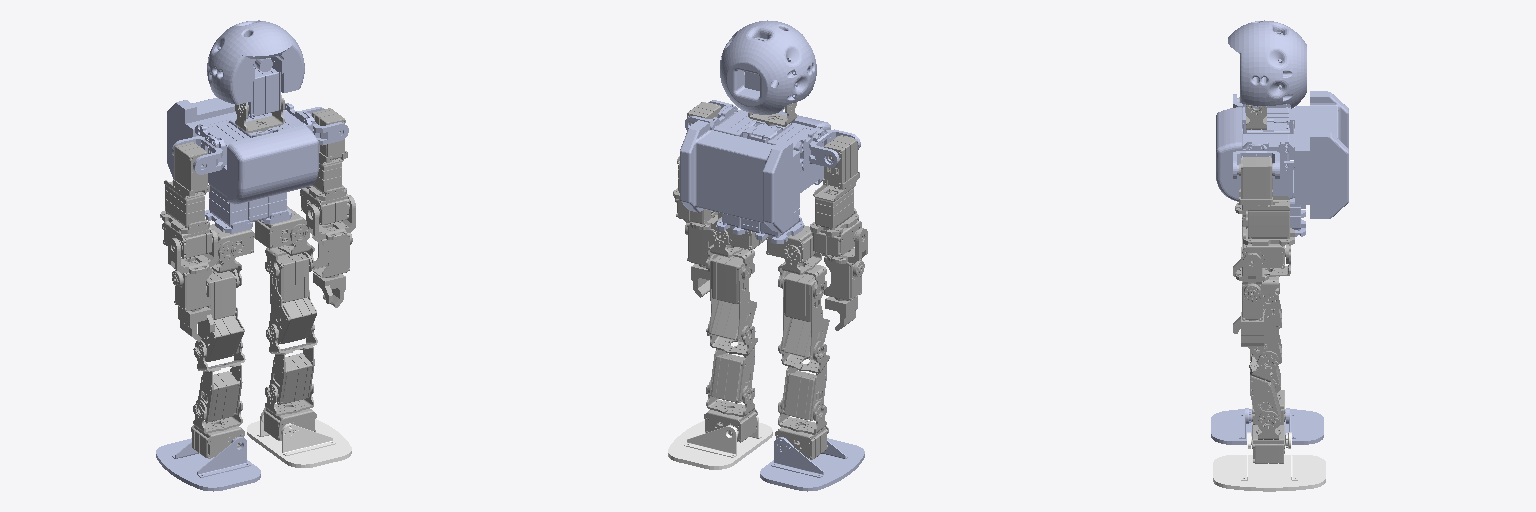
--- Render facts (derived) ---
The picture shows the robot from 3 angles, left to right: view 1: azimuth 30°, elevation 25°; view 2: azimuth 150°, elevation 25°; view 3: azimuth 270°, elevation 25°; orthographic projection.
Model Robokit-MV with 30 links and 29 joints (23 continuous, 6 fixed), rooted at trunk_1, posed all joints at 0.
Visible links, largest first — view 1: trunk_1, Head, Foot_Left, Hip_Left, Foot_Right, Arm_Right, Hand_Right, Hand_Left, Hip_Right, Shin_Left, Shin_Right, Waist (+13 smaller); view 2: Backpack, Head, Foot_Left, Arm_Right, trunk_1, Foot_Right, Hip_Left, Hip_Right, Shin_Left, Shin_Right, Hand_Right, Leg_Joint_Right03 (+10 smaller); view 3: Backpack, Head, trunk_1, Foot_Right, Arm_Left, Foot_Left, Hand_Left, Shin_Left, Leg_Joint_Left03, Hip_Left, Leg_Joint_Left02, Elbow_Left (+1 smaller).
Boxes of the visible links, box(x1,y1,x2,y2) form: trunk_1: box(195, 103, 318, 204); Head: box(207, 20, 304, 116); Foot_Left: box(156, 437, 260, 491); Hip_Left: box(269, 253, 316, 344); Foot_Right: box(247, 412, 351, 467); Arm_Right: box(160, 142, 209, 233); Hand_Right: box(168, 229, 217, 341); Hand_Left: box(306, 195, 355, 307); Hip_Right: box(198, 271, 244, 361); Shin_Left: box(266, 323, 317, 404); Shin_Right: box(193, 339, 245, 422); Waist: box(205, 184, 291, 233); Backpack: box(680, 120, 799, 232); Head: box(720, 20, 816, 114); Foot_Left: box(760, 437, 864, 491); Arm_Right: box(810, 135, 859, 236); trunk_1: box(710, 105, 830, 192); Foot_Right: box(668, 415, 772, 469); Hip_Left: box(709, 255, 756, 342); Hip_Right: box(781, 273, 829, 359); Shin_Left: box(706, 321, 757, 402); Shin_Right: box(778, 341, 829, 420); Hand_Right: box(821, 228, 867, 330); Leg_Joint_Right03: box(775, 398, 828, 459); Backpack: box(1295, 91, 1348, 218); Head: box(1228, 20, 1306, 112); trunk_1: box(1216, 104, 1294, 201); Foot_Right: box(1213, 432, 1325, 491); Arm_Left: box(1239, 157, 1294, 245); Foot_Left: box(1211, 408, 1323, 444); Hand_Left: box(1233, 253, 1268, 346); Shin_Left: box(1249, 351, 1280, 429); Leg_Joint_Left03: box(1252, 411, 1284, 463); Hip_Left: box(1248, 282, 1281, 363); Leg_Joint_Left02: box(1260, 244, 1290, 309); Elbow_Left: box(1243, 244, 1284, 268).
Bounding box of the posed robot: 0.1981 × 0.134 × 0.4566 m (x, y, z).
28 mesh visuals loaded from 30 distinct referenced files (28 binary STL); not drawn: 2 (reference not matched to a file when rendering).

The robot description file, URDF, robot "Robokit-MV":
<?xml version="1.0" ?><!-- =================================================================================== --><!-- |    This document was autogenerated by xacro from [local-path]/robokit_mv_description/urdf/robokit_mv.urdf.xacro | --><!-- |    EDITING THIS FILE BY HAND IS NOT RECOMMENDED                                 | --><!-- =================================================================================== --><!-- This URDF was automatically created by SolidWorks to URDF Exporter! Originally created by Stephen Brawner ([email redacted]) 
     Commit Version: 1.5.1-0-g916b5db  Build Version: 1.5.7152.31018
     For more information, please see http://wiki.ros.org/sw_urdf_exporter --><robot name="Robokit-MV"><ros2_control name="RobokitHardware" type="system"><hardware><plugin>robokit_hardware/RobokitHardware</plugin><param name="port">/dev/pts/2</param><param name="baudrate">38400</param><param name="timeout">1 </param></hardware><joint name="pelvis_yaw"><param name="id">  0  </param><param name="sio"> 2 </param><command_interface name="position"/><state_interface name="position"/></joint><joint name="left_hip_yaw"><param name="id">  5  </param><param name="sio"> 1 </param><command_interface name="position"/><state_interface name="position"/></joint><joint name="left_hip_roll"><param name="id">  6  </param><param name="sio"> 1 </param><command_interface name="position"/><state_interface name="position"/></joint><joint name="left_hip_pitch"><param name="id">  7  </param><param name="sio"> 1 </param><command_interface name="position"/><state_interface name="position"/></joint><joint name="left_knee"><param name="id">  8  </param><param name="sio"> 1 </param><command_interface name="position"/><state_interface name="position"/></joint><joint name="left_ankle_pitch"><param name="id">  9  </param><param name="sio"> 1 </param><command_interface name="position"/><state_interface name="position"/></joint><joint name="left_ankle_roll"><param name="id">  10  </param><param name="sio"> 1 </param><command_interface name="position"/><state_interface name="position"/></joint><joint name="right_hip_yaw"><param name="id">  5  </param><param name="sio"> 2 </param><command_interface name="position"/><state_interface name="position"/></joint><joint name="right_hip_roll"><param name="id">  6  </param><param name="sio"> 2 </param><command_interface name="position"/><state_interface name="position"/></joint><joint name="right_hip_pitch"><param name="id">  7  </param><param name="sio"> 2 </param><command_interface name="position"/><state_interface name="position"/></joint><joint name="right_knee"><param name="id">  8  </param><param name="sio"> 2 </param><command_interface name="position"/><state_interface name="position"/></joint><joint name="right_ankle_pitch"><param name="id">  9  </param><param name="sio"> 2 </param><command_interface name="position"/><state_interface name="position"/></joint><joint name="right_ankle_roll"><param name="id">  10  </param><param name="sio"> 2 </param><command_interface name="position"/><state_interface name="position"/></joint><joint name="right_shoulder_pitch"><param name="id">  1  </param><param name="sio"> 2 </param><command_interface name="position"/><state_interface name="position"/></joint><joint name="right_shoulder_roll"><param name="id">  2  </param><param name="sio"> 2 </param><command_interface name="position"/><state_interface name="position"/></joint><joint name="right_shoulder_twirl"><param name="id">  3  </param><param name="sio"> 2 </param><command_interface name="position"/><state_interface name="position"/></joint><joint name="right_elbow_pitch"><param name="id">  4  </param><param name="sio"> 2 </param><command_interface name="position"/><state_interface name="position"/></joint><joint name="left_shoulder_pitch"><param name="id">  1  </param><param name="sio"> 2 </param><command_interface name="position"/><state_interface name="position"/></joint><joint name="left_shoulder_roll"><param name="id">  2  </param><param name="sio"> 1 </param><command_interface name="position"/><state_interface name="position"/></joint><joint name="left_shoulder_twirl"><param name="id">  3  </param><param name="sio"> 1 </param><command_interface name="position"/><state_interface name="position"/></joint><joint name="left_elbow_pitch"><param name="id">  4  </param><param name="sio"> 1 </param><command_interface name="position"/><state_interface name="position"/></joint><joint name="head_yaw"><param name="id">  0  </param><param name="sio"> 1 </param><command_interface name="position"/><state_interface name="position"/></joint><joint name="head_pitch"><param name="id">  12  </param><param name="sio"> 2 </param><command_interface name="position"/><state_interface name="position"/></joint></ros2_control><link name="trunk_1"><inertial><origin rpy="0 0 0" xyz="-8.74167832816907E-07 0.023372900132223 0.0410889489067618"/><mass value="0.214867806570214"/><inertia ixx="5.81804713501468E-05" ixy="1.62345797802086E-11" ixz="5.51184024287373E-10" iyy="7.51266691454446E-05" iyz="2.13270086422374E-06" izz="8.82233769036687E-05"/></inertial><visual><origin rpy="0 0 0" xyz="0 0 0"/><geometry><mesh filename="package://robokit_mv_description/meshes/trunk_1.STL"/></geometry><material name=""><color rgba="0.792156862745098 0.819607843137255 0.933333333333333 1"/></material></visual><collision><origin rpy="0 0 0" xyz="0 0 0"/><geometry><mesh filename="package://robokit_mv_description/meshes/trunk_1.STL"/></geometry></collision></link><link name="Waist"><inertial><origin rpy="0 0 0" xyz="-3.35070604631623E-08 0.0113462692290319 -0.0207440591174633"/><mass value="0.154644776019609"/><inertia ixx="3.28942503506928E-05" ixy="1.75986692195613E-11" ixz="1.96284103912038E-10" iyy="1.71881147064278E-05" iyz="1.17033047177854E-08" izz="2.79113895784957E-05"/></inertial><visual><origin rpy="0 0 0" xyz="0 0 0"/><geometry><mesh filename="package://robokit_mv_description/meshes/Waist.STL"/></geometry><material name=""><color rgba="0.792156862745098 0.819607843137255 0.933333333333333 1"/></material></visual><collision><origin rpy="0 0 0" xyz="0 0 0"/><geometry><mesh filename="package://robokit_mv_description/meshes/Waist.STL"/></geometry></collision></link><joint name="pelvis_yaw" type="continuous"><origin rpy="0 0 0" xyz="0 0.02575 -0.00150000000000035"/><parent link="trunk_1"/><child link="Waist"/><axis xyz="0 0 -1"/><limit effort="2.5" velocity="8"/></joint><link name="Leg_Joint_Left01"><inertial><origin rpy="0 0 0" xyz="-3.19559579495081E-05 -0.0072042644181005 -0.0134140426609431"/><mass value="0.0512846295242101"/><inertia ixx="8.54007241396861E-06" ixy="1.78031687529191E-08" ixz="-6.54492012415178E-11" iyy="5.85930623260801E-06" iyz="1.12013781366265E-09" izz="1.1112438880465E-05"/></inertial><visual><origin rpy="0 0 0" xyz="0 0 0"/><geometry><mesh filename="package://robokit_mv_description/meshes/Leg_Joint_Left01.STL"/></geometry><material name=""><color rgba="0.752941176470588 0.752941176470588 0.752941176470588 1"/></material></visual><collision><origin rpy="0 0 0" xyz="0 0 0"/><geometry><mesh filename="package://robokit_mv_description/meshes/Leg_Joint_Left01.STL"/></geometry></collision></link><joint name="left_hip_yaw" type="continuous"><origin rpy="0 0 1.5707963267949" xyz="0.0215 0 -0.0404999999999994"/><parent link="Waist"/><child link="Leg_Joint_Left01"/><axis xyz="0 0 1"/><limit effort="2.5" velocity="8"/></joint><link name="Leg_Joint_Left02"><inertial><origin rpy="0 0 0" xyz="9.98775832880272E-05 -0.0209999999999998 -0.000150122416631461"/><mass value="0.020080538717293"/><inertia ixx="3.02313197281685E-06" ixy="-3.25488486275295E-08" ixz="9.383785217782E-12" iyy="4.48391280889875E-06" iyz="3.2548848627529E-08" izz="3.02313197281685E-06"/></inertial><visual><origin rpy="0 0 0" xyz="0 0 0"/><geometry><mesh filename="package://robokit_mv_description/meshes/Leg_Joint_Left02.STL"/></geometry><material name=""><color rgba="0.752941176470588 0.752941176470588 0.752941176470588 1"/></material></visual><collision><origin rpy="0 0 0" xyz="0 0 0"/><geometry><mesh filename="package://robokit_mv_description/meshes/Leg_Joint_Left02.STL"/></geometry></collision></link><joint name="left_hip_roll" type="continuous"><origin rpy="1.5707963267949 0 -1.5707963267949" xyz="0 -0.0185000000000018 -0.0145000000000005"/><parent link="Leg_Joint_Left01"/><child link="Leg_Joint_Left02"/><axis xyz="0 0 1"/><limit effort="2.5" velocity="8"/></joint><link name="Hip_Left"><inertial><origin rpy="0 0 0" xyz="-0.000282404195646159 0.00272640816197481 -0.0339546508546348"/><mass value="0.101150064064768"/><inertia ixx="1.88876210634111E-05" ixy="8.9065000967457E-09" ixz="-2.36228892041296E-09" iyy="2.13238211554501E-05" iyz="-1.63179903836981E-06" izz="1.22923575894604E-05"/></inertial><visual><origin rpy="0 0 0" xyz="0 0 0"/><geometry><mesh filename="package://robokit_mv_description/meshes/Hip_Left.STL"/></geometry><material name=""><color rgba="0.752941176470588 0.752941176470588 0.752941176470588 1"/></material></visual><collision><origin rpy="0 0 0" xyz="0 0 0"/><geometry><mesh filename="package://robokit_mv_description/meshes/Hip_Left.STL"/></geometry></collision></link><joint name="left_hip_pitch" type="continuous"><origin rpy="1.5707963267949 0 3.14159265358979" xyz="0 -0.0420000000000003 -0.000249999999987944"/><parent link="Leg_Joint_Left02"/><child link="Hip_Left"/><axis xyz="-1 0 0"/><limit effort="2.5" lower="-2.0" upper="2.0" velocity="8"/></joint><link name="Shin_Left"><inertial><origin rpy="0 0 0" xyz="-5.64736112874872E-05 0.00340392461866844 -0.0445798634118628"/><mass value="0.0646126841894407"/><inertia ixx="1.0850452160879E-05" ixy="1.69133317870829E-08" ixz="-1.27880202966444E-08" iyy="1.3871985706539E-05" iyz="-1.4231710521206E-06" izz="8.26789843761026E-06"/></inertial><visual><origin rpy="0 0 0" xyz="0 0 0"/><geometry><mesh filename="package://robokit_mv_description/meshes/Shin_Left.STL"/></geometry><material name=""><color rgba="0.752941176470588 0.752941176470588 0.752941176470588 1"/></material></visual><collision><origin rpy="0 0 0" xyz="0 0 0"/><geometry><mesh filename="package://robokit_mv_description/meshes/Shin_Left.STL"/></geometry></collision></link><joint name="left_knee" type="continuous"><origin rpy="0 0 0" xyz="0 0 -0.0654640764655605"/><parent link="Hip_Left"/><child link="Shin_Left"/><axis xyz="-1 0 0"/><limit effort="2.5" velocity="8"/></joint><link name="Leg_Joint_Left03"><inertial><origin rpy="0 0 0" xyz="-0.030640119418525 -0.000388057782434073 2.66648307124043E-05"/><mass value="0.0613248988336405"/><inertia ixx="1.33543952679878E-05" ixy="3.36541996948923E-08" ixz="5.05990218472107E-11" iyy="6.57220132764364E-06" iyz="-1.77984890340568E-08" izz="1.08503092781389E-05"/></inertial><visual><origin rpy="0 0 0" xyz="0 0 0"/><geometry><mesh filename="package://robokit_mv_description/meshes/Leg_Joint_Left03.STL"/></geometry><material name=""><color rgba="0.752941176470588 0.752941176470588 0.752941176470588 1"/></material></visual><collision><origin rpy="0 0 0" xyz="0 0 0"/><geometry><mesh filename="package://robokit_mv_description/meshes/Leg_Joint_Left03.STL"/></geometry></collision></link><joint name="left_ankle_pitch" type="continuous"><origin rpy="1.5707963267948 -1.5707963267949 0" xyz="0 0 -0.0638038486636514"/><parent link="Shin_Left"/><child link="Leg_Joint_Left03"/><axis xyz="0 1 0"/><limit effort="2.5" velocity="8"/></joint><link name="Foot_Right"><inertial><origin rpy="0 0 0" xyz="-0.0211401926421241 -0.000636427862619866 -0.0203588030920013"/><mass value="0.0398739900019891"/><inertia ixx="2.89897310343288E-05" ixy="-1.65588139005645E-10" ixz="-2.55849239760451E-07" iyy="1.50579151043644E-05" iyz="-1.85448230993013E-10" izz="4.31603705562003E-05"/></inertial><visual><origin rpy="0 0 0" xyz="0 0 0"/><geometry><mesh filename="package://robokit_mv_description/meshes/Foot_Right.STL"/></geometry><material name=""><color rgba="1 1 1 1"/></material></visual><collision><origin rpy="0 0 0" xyz="0 0 0"/><geometry><mesh filename="package://robokit_mv_description/meshes/Foot_Right.STL"/></geometry></collision></link><joint name="left_ankle_roll" type="continuous"><origin rpy="-1.57079632679494 0 -1.57079632679491" xyz="-0.0354999999999987 -0.0115000000000029 0"/><parent link="Leg_Joint_Left03"/><child link="Foot_Right"/><axis xyz="0 1 0"/><limit effort="2.5" velocity="8"/></joint><link name="right_foot"><inertial><origin rpy="0 0 0" xyz="-6.93889390390723E-16 -2.42628833690972E-13 0"/><mass value="1.27499999999986E-07"/><inertia ixx="5.31249999999884E-15" ixy="-4.7468386299076E-32" ixz="-8.35508899605433E-32" iyy="5.31249999999884E-15" iyz="-2.08877224901163E-32" izz="5.31249999999943E-15"/></inertial><visual><origin rpy="0 0 0" xyz="0 0 0"/><geometry><mesh filename="package://robokit_mv_description/meshes/right_foot.STL"/></geometry><material name=""><color rgba="0.792156862745098 0.819607843137255 0.933333333333333 1"/></material></visual><collision><origin rpy="0 0 0" xyz="0 0 0"/><geometry><mesh filename="package://robokit_mv_description/meshes/right_foot.STL"/></geometry></collision></link><joint name="right_foot_frame" type="fixed"><origin rpy="0 0 3.14159265358979" xyz="0.0794999999999962 0.000749999999970892 -0.0254068939380563"/><parent link="Foot_Right"/><child link="right_foot"/><axis xyz="0 0 0"/></joint><link name="Leg_Joint_Right01"><inertial><origin rpy="0 0 0" xyz="-3.19558301462713E-05 0.00720426423571851 -0.0134138401732526"/><mass value="0.0512846290411205"/><inertia ixx="8.54007241380024E-06" ixy="-1.77984869107575E-08" ixz="6.54480760389324E-11" iyy="5.85930619302243E-06" iyz="-1.08494089712304E-09" izz="1.11124388389682E-05"/></inertial><visual><origin rpy="0 0 0" xyz="0 0 0"/><geometry><mesh filename="package://robokit_mv_description/meshes/Leg_Joint_Right01.STL"/></geometry><material name=""><color rgba="0.752941176470588 0.752941176470588 0.752941176470588 1"/></material></visual><collision><origin rpy="0 0 0" xyz="0 0 0"/><geometry><mesh filename="package://robokit_mv_description/meshes/Leg_Joint_Right01.STL"/></geometry></collision></link><joint name="right_hip_yaw" type="continuous"><origin rpy="0 0 1.5707963267949" xyz="-0.0215 0 -0.0404999999999991"/><parent link="Waist"/><child link="Leg_Joint_Right01"/><axis xyz="0 0 1"/><limit effort="2.5" velocity="8"/></joint><link name="Leg_Joint_Right02"><inertial><origin rpy="0 0 0" xyz="0.000100239125274626 -0.0209999999999996 0.000149760874804655"/><mass value="0.020080538717293"/><inertia ixx="3.02313197281684E-06" ixy="-3.25192170197193E-08" ixz="9.38378521866861E-12" iyy="4.48391280889874E-06" iyz="-3.25192170197182E-08" izz="3.02313197281685E-06"/></inertial><visual><origin rpy="0 0 0" xyz="0 0 0"/><geometry><mesh filename="package://robokit_mv_description/meshes/Leg_Joint_Right02.STL"/></geometry><material name=""><color rgba="0.752941176470588 0.752941176470588 0.752941176470588 1"/></material></visual><collision><origin rpy="0 0 0" xyz="0 0 0"/><geometry><mesh filename="package://robokit_mv_description/meshes/Leg_Joint_Right02.STL"/></geometry></collision></link><joint name="right_hip_roll" type="continuous"><origin rpy="1.5707963267949 0 1.5707963267949" xyz="0 0.0185 -0.0145000000000004"/><parent link="Leg_Joint_Right01"/><child link="Leg_Joint_Right02"/><axis xyz="0 0 1"/><limit effort="2.5" velocity="8"/></joint><link name="Hip_Right"><inertial><origin rpy="0 0 0" xyz="-0.000282404257601537 -0.00272642169597793 -0.0339545995512656"/><mass value="0.101150064618055"/><inertia ixx="1.88876210655236E-05" ixy="-8.92363142970319E-09" ixz="-2.29675028061216E-09" iyy="2.13238510225186E-05" iyz="1.63174586641569E-06" izz="1.22923278086204E-05"/></inertial><visual><origin rpy="0 0 0" xyz="0 0 0"/><geometry><mesh filename="package://robokit_mv_description/meshes/Hip_Right.STL"/></geometry><material name=""><color rgba="0.752941176470588 0.752941176470588 0.752941176470588 1"/></material></visual><collision><origin rpy="0 0 0" xyz="0 0 0"/><geometry><mesh filename="package://robokit_mv_description/meshes/Hip_Right.STL"/></geometry></collision></link><joint name="right_hip_pitch" type="continuous"><origin rpy="1.5707963267949 0 3.14159265358979" xyz="0 -0.0420000000000002 0.000249999999944236"/><parent link="Leg_Joint_Right02"/><child link="Hip_Right"/><axis xyz="1 0 0"/><limit effort="2.5" lower="-2.0" upper="2.0" velocity="8"/></joint><link name="Shin_Right"><inertial><origin rpy="0 0 0" xyz="-5.64745603120129E-05 -0.00340366862625934 -0.0445798704617521"/><mass value="0.0646126738231139"/><inertia ixx="1.08504496680133E-05" ixy="-1.67777611674612E-08" ixz="-1.27621188774935E-08" iyy="1.38720214198207E-05" iyz="1.42316083765014E-06" izz="8.26785555781953E-06"/></inertial><visual><origin rpy="0 0 0" xyz="0 0 0"/><geometry><mesh filename="package://robokit_mv_description/meshes/Shin_Right.STL"/></geometry><material name=""><color rgba="0.752941176470588 0.752941176470588 0.752941176470588 1"/></material></visual><collision><origin rpy="0 0 0" xyz="0 0 0"/><geometry><mesh filename="package://robokit_mv_description/meshes/Shin_Right.STL"/></geometry></collision></link><joint name="right_knee" type="continuous"><origin rpy="0 0 0" xyz="0 0 -0.0654640764655562"/><parent link="Hip_Right"/><child link="Shin_Right"/><axis xyz="-1 0 0"/><limit effort="2.5" velocity="8"/></joint><link name="Leg_Joint_Right03"><inertial><origin rpy="0 0 0" xyz="-0.0306399501647063 -0.000388057791759926 -2.67832438580681E-05"/><mass value="0.0613248988298913"/><inertia ixx="1.33543952422323E-05" ixy="3.36189859395737E-08" ixz="5.06130863311831E-11" iyy="6.57220131746516E-06" iyz="1.78031554053221E-08" izz="1.08503092622876E-05"/></inertial><visual><origin rpy="0 0 0" xyz="0 0 0"/><geometry><mesh filename="package://robokit_mv_description/meshes/Leg_Joint_Right03.STL"/></geometry><material name=""><color rgba="0.752941176470588 0.752941176470588 0.752941176470588 1"/></material></visual><collision><origin rpy="0 0 0" xyz="0 0 0"/><geometry><mesh filename="package://robokit_mv_description/meshes/Leg_Joint_Right03.STL"/></geometry></collision></link><joint name="right_ankle_pitch" type="continuous"><origin rpy="1.5707963267949 -1.5707963267949 0" xyz="0 0 -0.0638038486633716"/><parent link="Shin_Right"/><child link="Leg_Joint_Right03"/><axis xyz="0 1 0"/><limit effort="2.5" velocity="8"/></joint><link name="Foot_Left"><inertial><origin rpy="0 0 0" xyz="-0.0211401926421647 -0.000636427863859361 -0.0203588030922825"/><mass value="0.0398739900019891"/><inertia ixx="2.89897310343288E-05" ixy="-1.65588140489864E-10" ixz="-2.55849239760451E-07" iyy="1.50579151043644E-05" iyz="-1.8544822956272E-10" izz="4.31603705562003E-05"/></inertial><visual><origin rpy="0 0 0" xyz="0 0 0"/><geometry><mesh filename="package://robokit_mv_description/meshes/Foot_Left.STL"/></geometry><material name=""><color rgba="0.792156862745098 0.819607843137255 0.933333333333333 1"/></material></visual><collision><origin rpy="0 0 0" xyz="0 0 0"/><geometry><mesh filename="package://robokit_mv_description/meshes/Foot_Left.STL"/></geometry></collision></link><joint name="right_anke_roll" type="continuous"><origin rpy="-1.57079632679489 0 -1.57079632679489" xyz="-0.0354999999999995 -0.0115000000000478 0"/><parent link="Leg_Joint_Right03"/><child link="Foot_Left"/><axis xyz="0 1 0"/><limit effort="2.5" velocity="8"/></joint><link name="left_foot"><inertial><origin rpy="0 0 0" xyz="1.17961196366423E-16 -9.89569537424018E-13 1.11022302462516E-16"/><mass value="1.27499999999986E-07"/><inertia ixx="5.31249999999884E-15" ixy="-4.7468386299076E-32" ixz="-8.35508899605433E-32" iyy="5.31249999999884E-15" iyz="-2.08877224901163E-32" izz="5.31249999999943E-15"/></inertial><visual><origin rpy="0 0 0" xyz="0 0 0"/><geometry><mesh filename="package://robokit_mv_description/meshes/left_foot.STL"/></geometry><material name=""><color rgba="0.792156862745098 0.819607843137255 0.933333333333333 1"/></material></visual><collision><origin rpy="0 0 0" xyz="0 0 0"/><geometry><mesh filename="package://robokit_mv_description/meshes/left_foot.STL"/></geometry></collision></link><joint name="left_foot_frame" type="fixed"><origin rpy="0 0 0" xyz="0.0794999999999584 0.00124999999993657 -0.0254068939383429"/><parent link="Foot_Left"/><child link="left_foot"/><axis xyz="0 0 0"/></joint><link name="Forearm_Right"><inertial><origin rpy="0 0 0" xyz="1.87939941387327E-13 -0.0106456238604742 0.000634763144775119"/><mass value="0.00814777543988268"/><inertia ixx="2.88420328428271E-06" ixy="-2.54005497593128E-17" ixz="1.05106248414997E-14" iyy="2.45381641366332E-06" iyz="4.60366193686945E-08" izz="1.11781703961495E-06"/></inertial><visual><origin rpy="0 0 0" xyz="0 0 0"/><geometry><mesh filename="package://robokit_mv_description/meshes/Forearm_Right.STL"/></geometry><material name=""><color rgba="0.792156862745098 0.819607843137255 0.933333333333333 1"/></material></visual><collision><origin rpy="0 0 0" xyz="0 0 0"/><geometry><mesh filename="package://robokit_mv_description/meshes/Forearm_Right.STL"/></geometry></collision></link><joint name="right_shoulder_pitch" type="continuous"><origin rpy="1.5707963267949 1.5707963267949 0" xyz="-0.0511999999999879 0.0142000000000003 0.0487499999999991"/><parent link="trunk_1"/><child link="Forearm_Right"/><axis xyz="0 1 0"/><limit effort="2.5" velocity="8"/></joint><link name="Arm_Right"><inertial><origin rpy="0 0 0" xyz="-1.0104556261159E-07 -0.00618643921558165 0.0345016442183754"/><mass value="0.10267355995043"/><inertia ixx="2.17355163845237E-05" ixy="-8.30277185136509E-11" ixz="-4.7828269846734E-11" iyy="1.41158682546047E-05" iyz="1.2680499330184E-07" izz="1.57397379865535E-05"/></inertial><visual><origin rpy="0 0 0" xyz="0 0 0"/><geometry><mesh filename="package://robokit_mv_description/meshes/Arm_Right.STL"/></geometry><material name=""><color rgba="0.752941176470588 0.752941176470588 0.752941176470588 1"/></material></visual><collision><origin rpy="0 0 0" xyz="0 0 0"/><geometry><mesh filename="package://robokit_mv_description/meshes/Arm_Right.STL"/></geometry></collision></link><joint name="right_shoulder_roll" type="continuous"><origin rpy="1.5707963267949 0 1.5707963267949" xyz="0 -0.0250000000000002 0"/><parent link="Forearm_Right"/><child link="Arm_Right"/><axis xyz="0 1 0"/><limit effort="2.5" velocity="8"/></joint><link name="Elbow_Right"><inertial><origin rpy="0 0 0" xyz="-0.0134138402456614 -0.00683871223441472 3.19559527753588E-05"/><mass value="0.0512846295229477"/><inertia ixx="1.11124388652496E-05" ixy="1.12014609962257E-09" ixz="-6.54290803370197E-11" iyy="5.85930622589019E-06" iyz="1.7798472145625E-08" izz="8.54007240557124E-06"/></inertial><visual><origin rpy="0 0 0" xyz="0 0 0"/><geometry><mesh filename="package://robokit_mv_description/meshes/Elbow_Right.STL"/></geometry><material name=""><color rgba="0.752941176470588 0.752941176470588 0.752941176470588 1"/></material></visual><collision><origin rpy="0 0 0" xyz="0 0 0"/><geometry><mesh filename="package://robokit_mv_description/meshes/Elbow_Right.STL"/></geometry></collision></link><joint name="right_shoulder_twirl" type="continuous"><origin rpy="0 1.5707963267949 0" xyz="0 -0.000499999999987961 0.0743999999999973"/><parent link="Arm_Right"/><child link="Elbow_Right"/><axis xyz="1 0 0"/><limit effort="2.5" velocity="8"/></joint><link name="Hand_Right"><inertial><origin rpy="0 0 0" xyz="-0.000298101439876611 0.0475719113939495 0.00168989365596822"/><mass value="0.0242658011097449"/><inertia ixx="5.83797255681696E-06" ixy="3.32256201052361E-08" ixz="-7.55707704208802E-08" iyy="4.3258592466132E-06" iyz="5.23267315518168E-08" izz="3.91200787990746E-06"/></inertial><visual><origin rpy="0 0 0" xyz="0 0 0"/><geometry><mesh filename="package://robokit_mv_description/meshes/Hand_Right.STL"/></geometry><material name=""><color rgba="0.752941176470588 0.752941176470588 0.752941176470588 1"/></material></visual><collision><origin rpy="0 0 0" xyz="0 0 0"/><geometry><mesh filename="package://robokit_mv_description/meshes/Hand_Right.STL"/></geometry></collision></link><joint name="right_elbow" type="continuous"><origin rpy="3.14159265358979 0 -1.5707963267949" xyz="-0.0145000000000004 0.00449999999999998 0"/><parent link="Elbow_Right"/><child link="Hand_Right"/><axis xyz="0 0 1"/><limit effort="2.5" velocity="8"/></joint><link name="Forearm_Left"><inertial><origin rpy="0 0 0" xyz="1.84262327618256E-13 -0.0106456238604513 0.000634763144775074"/><mass value="0.0081477754398827"/><inertia ixx="2.88420328428271E-06" ixy="-2.54008320405854E-17" ixz="1.05106290971958E-14" iyy="2.45381641366333E-06" iyz="4.60366193686983E-08" izz="1.11781703961495E-06"/></inertial><visual><origin rpy="0 0 0" xyz="0 0 0"/><geometry><mesh filename="package://robokit_mv_description/meshes/Forearm_Left.STL"/></geometry><material name=""><color rgba="0.792156862745098 0.819607843137255 0.933333333333333 1"/></material></visual><collision><origin rpy="0 0 0" xyz="0 0 0"/><geometry><mesh filename="package://robokit_mv_description/meshes/Forearm_Left.STL"/></geometry></collision></link><joint name="left_shoulder_pitch" type="continuous"><origin rpy="1.5707963267949 -1.5707963267949 0" xyz="0.0512000000000104 0.0142000000000005 0.0487499999999991"/><parent link="trunk_1"/><child link="Forearm_Left"/><axis xyz="0 1 0"/><limit effort="2.5" velocity="8"/></joint><link name="Arm_Left"><inertial><origin rpy="0 0 0" xyz="-1.01135898378235E-07 -0.0061864390787304 0.0345016442078851"/><mass value="0.102673558971779"/><inertia ixx="2.17355163043989E-05" ixy="-8.30337421317796E-11" ixz="-4.78357004174475E-11" iyy="1.41158682129161E-05" iyz="1.26804993301834E-07" izz="1.57397379448648E-05"/></inertial><visual><origin rpy="0 0 0" xyz="0 0 0"/><geometry><mesh filename="package://robokit_mv_description/meshes/Arm_Left.STL"/></geometry><material name=""><color rgba="0.752941176470588 0.752941176470588 0.752941176470588 1"/></material></visual><collision><origin rpy="0 0 0" xyz="0 0 0"/><geometry><mesh filename="package://robokit_mv_description/meshes/Arm_Left.STL"/></geometry></collision></link><joint name="left_shoulder_roll" type="continuous"><origin rpy="1.5707963267949 0 -1.5707963267949" xyz="0 -0.0250000000000002 0"/><parent link="Forearm_Left"/><child link="Arm_Left"/><axis xyz="0 1 0"/><limit effort="2.5" velocity="8"/></joint><link name="Elbow_Left"><inertial><origin rpy="0 0 0" xyz="-0.013414042576414 -0.00683871238402667 -3.19560756821546E-05"/><mass value="0.0512846299543346"/><inertia ixx="1.11124388792797E-05" ixy="1.08495341016806E-09" ixz="-6.54268039409115E-11" iyy="5.85930625627109E-06" iyz="-1.78031865966666E-08" izz="8.54007239041879E-06"/></inertial><visual><origin rpy="0 0 0" xyz="0 0 0"/><geometry><mesh filename="package://robokit_mv_description/meshes/Elbow_Left.STL"/></geometry><material name=""><color rgba="0.752941176470588 0.752941176470588 0.752941176470588 1"/></material></visual><collision><origin rpy="0 0 0" xyz="0 0 0"/><geometry><mesh filename="package://robokit_mv_description/meshes/Elbow_Left.STL"/></geometry></collision></link><joint name="left_shoulder_twirl" type="continuous"><origin rpy="0 1.5707963267949 0" xyz="0 -0.000499999999987795 0.0743999999999975"/><parent link="Arm_Left"/><child link="Elbow_Left"/><axis xyz="1 0 0"/><limit effort="2.5" velocity="8"/></joint><link name="Hand_Left"><inertial><origin rpy="0 0 0" xyz="0.000289371875005124 -0.0426734248516597 -0.00207056730651169"/><mass value="0.0207040754614249"/><inertia ixx="5.55100255153863E-06" ixy="2.01424224463897E-08" ixz="-6.34860431629677E-08" iyy="4.08638271063399E-06" iyz="9.1123687608939E-08" izz="3.63770502904564E-06"/></inertial><visual><origin rpy="0 0 0" xyz="0 0 0"/><geometry><mesh filename="package://robokit_mv_description/meshes/Hand_Left.STL"/></geometry><material name=""><color rgba="0.752941176470588 0.752941176470588 0.752941176470588 1"/></material></visual><collision><origin rpy="0 0 0" xyz="0 0 0"/><geometry><mesh filename="package://robokit_mv_description/meshes/Hand_Left.STL"/></geometry></collision></link><joint name="left_elbow" type="continuous"><origin rpy="3.14159265358979 0 1.5707963267949" xyz="-0.0145000000000001 0.0045 0"/><parent link="Elbow_Left"/><child link="Hand_Left"/><axis xyz="0 0 1"/><limit effort="2.5" velocity="8"/></joint><link name="Neck"><inertial><origin rpy="0 0 0" xyz="-7.2054385518975E-05 0.0136691972667993 -3.08512760206769E-07"/><mass value="0.0122170870464977"/><inertia ixx="9.39329341934082E-07" ixy="-3.69627304705553E-08" ixz="-7.7052466077669E-11" iyy="2.68533956388329E-06" iyz="7.59503760503805E-11" izz="2.9149671733215E-06"/></inertial><visual><origin rpy="0 0 0" xyz="0 0 0"/><geometry><mesh filename="package://robokit_mv_description/meshes/Neck.STL"/></geometry><material name=""><color rgba="0.752941176470588 0.752941176470588 0.752941176470588 1"/></material></visual><collision><origin rpy="0 0 0" xyz="0 0 0"/><geometry><mesh filename="package://robokit_mv_description/meshes/Neck.STL"/></geometry></collision></link><joint name="head_yaw" type="continuous"><origin rpy="1.57079632679489 0 -3.14159265358979" xyz="0 0.0142000000000002 0.0615499999999989"/><parent link="trunk_1"/><child link="Neck"/><axis xyz="0 1 0"/><limit effort="2.5" velocity="8"/></joint><link name="Head"><inertial><origin rpy="0 0 0" xyz="-0.0108911606011029 -0.0332077007101556 4.14816350767002E-05"/><mass value="0.163135245541874"/><inertia ixx="0.000103364518648403" ixy="1.27002914983976E-06" ixz="-1.29437528885219E-09" iyy="7.64163530592585E-05" iyz="7.07971794361272E-07" izz="4.95269620055087E-05"/></inertial><visual><origin rpy="0 0 0" xyz="0 0 0"/><geometry><mesh filename="package://robokit_mv_description/meshes/Head.STL"/></geometry><material name=""><color rgba="0.792156862745098 0.819607843137255 0.933333333333333 1"/></material></visual><collision><origin rpy="0 0 0" xyz="0 0 0"/><geometry><mesh filename="package://robokit_mv_description/meshes/Head.STL"/></geometry></collision></link><joint name="head_pitch" type="continuous"><origin rpy="1.57079632679533 1.55915844493874 -1.57079632679447" xyz="0 0.0282 0"/><parent link="Neck"/><child link="Head"/><axis xyz="0 0 1"/><limit effort="2.5" velocity="8"/></joint><link name="camera"><inertial><origin rpy="0 0 0" xyz="-4.06575814682064E-20 2.77555756156289E-17 0"/><mass value="1.275E-07"/><inertia ixx="5.31250000000001E-15" ixy="-2.38304359369697E-31" ixz="1.3101927625964E-31" iyy="5.31250000000001E-15" iyz="2.35457888710234E-31" izz="5.31250000000001E-15"/></inertial><visual><origin rpy="0 0 0" xyz="0 0 0"/><geometry><mesh filename="package://robokit_mv_description/meshes/camera.STL"/></geometry><material name=""><color rgba="0.792156862745098 0.819607843137255 0.933333333333333 1"/></material></visual><collision><origin rpy="0 0 0" xyz="0 0 0"/><geometry><mesh filename="package://robokit_mv_description/meshes/camera.STL"/></geometry></collision></link><joint name="camera_frame" type="fixed"><origin rpy="0.0116378818561755 -1.5707963267949 0" xyz="0.0116432919967299 -0.0436082735831216 0.000100000000012143"/><parent link="Head"/><child link="camera"/><axis xyz="0 0 0"/></joint><link name="Backpack"><inertial><origin rpy="0 0 0" xyz="0.000227548569987629 -0.00537793203761297 -0.0283796013461026"/><mass value="0.0432975649644979"/><inertia ixx="4.12051433748935E-05" ixy="1.18407098634176E-11" ixz="1.75912893882631E-13" iyy="7.360946260012E-05" iyz="-6.64793799342586E-13" izz="9.46529186579802E-05"/></inertial><visual><origin rpy="0 0 0" xyz="0 0 0"/><geometry><mesh filename="package://robokit_mv_description/meshes/Backpack.STL"/></geometry><material name=""><color rgba="0.792156862745098 0.819607843137255 0.933333333333333 1"/></material></visual><collision><origin rpy="0 0 0" xyz="0 0 0"/><geometry><mesh filename="package://robokit_mv_description/meshes/Backpack.STL"/></geometry></collision></link><joint name="Backpack_fix" type="fixed"><origin rpy="1.5707963267949 0 0" xyz="-0.00022754807029518 0.0515 0.0339403012770695"/><parent link="trunk_1"/><child link="Backpack"/><axis xyz="0 0 0"/></joint><link name="base_link"><inertial><origin rpy="0 0 0" xyz="7.02963443262805E-06 0.000166826979018653 -0.0108079385411631"/><mass value="1.275E-07"/><inertia ixx="5.31250000000002E-15" ixy="-4.7468386299164E-32" ixz="8.35508899604758E-32" iyy="5.31250000000002E-15" iyz="-2.0887722490119E-32" izz="5.31250000000002E-15"/></inertial><visual><origin rpy="0 0 0" xyz="0 0 0"/><geometry><mesh filename="package://robokit_mv_description/meshes/trunk.STL"/></geometry><material name=""><color rgba="0.792156862745098 0.819607843137255 0.933333333333333 1"/></material></visual><collision><origin rpy="0 0 0" xyz="0 0 0"/><geometry><mesh filename="package://robokit_mv_description/meshes/trunk.STL"/></geometry></collision></link><joint name="trunk_frame" type="fixed"><origin rpy="0 0 0" xyz="-0.000150218352888387 0.0256574854752784 -0.0450598564129154"/><parent link="trunk_1"/><child link="base_link"/><axis xyz="0 0 0"/></joint><link name="head_base"><inertial><origin rpy="0 0 0" xyz="-1.52597296943921E-15 0 1.38777878078145E-17"/><mass value="1.275E-07"/><inertia ixx="5.31250000000002E-15" ixy="-4.7468386299164E-32" ixz="8.35508899604757E-32" iyy="5.31250000000002E-15" iyz="-2.0887722490119E-32" izz="5.31250000000002E-15"/></inertial><visual><origin rpy="0 0 0" xyz="0 0 0"/><geometry><mesh filename="package://robokit_mv_description/meshes/head_base.STL"/></geometry><material name=""><color rgba="0.792156862745098 0.819607843137255 0.933333333333333 1"/></material></visual><collision><origin rpy="0 0 0" xyz="0 0 0"/><geometry><mesh filename="package://robokit_mv_description/meshes/head_base.STL"/></geometry></collision></link><joint name="head_base_frame" type="fixed"><origin rpy="0 0 0" xyz="0 0.0142000000000002 0.0656999999999994"/><parent link="trunk_1"/><child link="head_base"/><axis xyz="0 0 0"/></joint><!-- <link
    name="num_01">
    <inertial>
      <origin
        xyz="0.0208235381701784 0.0265368431678545 -0.000173869427509511"
        rpy="0 0 0" />
      <mass
        value="0.000570874530441625" />
      <inertia
        ixx="1.1722452097598E-07"
        ixy="9.49535850682138E-09"
        ixz="6.28203453068967E-10"
        iyy="1.07183362337616E-08"
        iyz="-8.3484233461281E-09"
        izz="1.25464724831805E-07" />
    </inertial>
    <visual>
      <origin
        xyz="0 0 0"
        rpy="0 0 0" />
      <geometry>
        <mesh
          filename="package://robokit_mv_description/meshes/num_01.STL" />
      </geometry>
      <material
        name="">
        <color
          rgba="0.792156862745098 0.819607843137255 0.933333333333333 1" />
      </material>
    </visual>
    <collision>
      <origin
        xyz="0 0 0"
        rpy="0 0 0" />
      <geometry>
        <mesh
          filename="package://robokit_mv_description/meshes/num_01.STL" />
      </geometry>
    </collision>
  </link>
  <joint
    name="num_01_fix"
    type="fixed">
    <origin
      xyz="-0.001141 -0.025 0.0050692"
      rpy="1.5708 0 0" />
    <parent
      link="trunk_1" />
    <child
      link="num_01" />
    <axis
      xyz="0 0 0" />
  </joint>
  <link
    name="num_02">
    <inertial>
      <origin
        xyz="0.0189520407987391 0.0218434267027871 -0.00104528071787012"
        rpy="0 0 0" />
      <mass
        value="0.00102770122327197" />
      <inertia
        ixx="3.09986548398344E-07"
        ixy="-1.99030363842269E-08"
        ixz="-1.7895289064832E-09"
        iyy="8.55789388484911E-08"
        iyz="-2.93939353386446E-08"
        izz="3.8662899051372E-07" />
    </inertial>
    <visual>
      <origin
        xyz="0 0 0"
        rpy="0 0 0" />
      <geometry>
        <mesh
          filename="package://robokit_mv_description/meshes/num_02.STL" />
      </geometry>
      <material
        name="">
        <color
          rgba="0.792156862745098 0.819607843137255 0.933333333333333 1" />
      </material>
    </visual>
    <collision>
      <origin
        xyz="0 0 0"
        rpy="0 0 0" />
      <geometry>
        <mesh
          filename="package://robokit_mv_description/meshes/num_02.STL" />
      </geometry>
    </collision>
  </link>
  <joint
    name="num_02_fix"
    type="fixed">
    <origin
      xyz="-0.00011538 -0.025 0.0050692"
      rpy="1.5708 0 0" />
    <parent
      link="trunk_1" />
    <child
      link="num_02" />
    <axis
      xyz="0 0 0" />
  </joint>
  <link
    name="num_03">
    <inertial>
      <origin
        xyz="0.0211901958724706 0.0233139611805824 -0.000666381477769332"
        rpy="0 0 0" />
      <mass
        value="0.000940537354254539" />
      <inertia
        ixx="2.55000924546634E-07"
        ixy="1.3637593294189E-09"
        ixz="-2.38871281684249E-09"
        iyy="7.24884975138308E-08"
        iyz="-2.08866264694033E-08"
        izz="3.2135374477828E-07" />
    </inertial>
    <visual>
      <origin
        xyz="0 0 0"
        rpy="0 0 0" />
      <geometry>
        <mesh
          filename="package://robokit_mv_description/meshes/num_03.STL" />
      </geometry>
      <material
        name="">
        <color
          rgba="0.792156862745098 0.819607843137255 0.933333333333333 1" />
      </material>
    </visual>
    <collision>
      <origin
        xyz="0 0 0"
        rpy="0 0 0" />
      <geometry>
        <mesh
          filename="package://robokit_mv_description/meshes/num_03.STL" />
      </geometry>
    </collision>
  </link>
  <joint
    name="num_03_fix"
    type="fixed">
    <origin
      xyz="-0.00137139423076944 -0.025 0.00506924133700464"
      rpy="1.5707963267949 0 0" />
    <parent
      link="trunk_1" />
    <child
      link="num_03" />
    <axis
      xyz="0 0 0" />
  </joint>
  <link
    name="num_04">
    <inertial>
      <origin
        xyz="0.0198973231938261 0.0231312706924585 6.73560822704103E-05"
        rpy="0 0 0" />
      <mass
        value="0.000978360744785296" />
      <inertia
        ixx="1.39624720158043E-07"
        ixy="-6.49526518603619E-09"
        ixz="2.03318195408202E-09"
        iyy="6.75674126758199E-08"
        iyz="-7.55883257241574E-09"
        izz="2.04471973758685E-07" />
    </inertial>
    <visual>
      <origin
        xyz="0 0 0"
        rpy="0 0 0" />
      <geometry>
        <mesh
          filename="package://robokit_mv_description/meshes/num_04.STL" />
      </geometry>
      <material
        name="">
        <color
          rgba="0.792156862745098 0.819607843137255 0.933333333333333 1" />
      </material>
    </visual>
    <collision>
      <origin
        xyz="0 0 0"
        rpy="0 0 0" />
      <geometry>
        <mesh
          filename="package://robokit_mv_description/meshes/num_04.STL" />
      </geometry>
    </collision>
  </link>
  <joint
    name="num_04_fix"
    type="fixed">
    <origin
      xyz="-0.00075641 -0.025 0.0050692"
      rpy="1.5708 0 0" />
    <parent
      link="trunk_1" />
    <child
      link="num_04" />
    <axis
      xyz="0 0 0" />
  </joint>
  <link
    name="num_05">
    <inertial>
      <origin
        xyz="0.0192253725031374 0.0242270562964091 -0.000540076322432949"
        rpy="0 0 0" />
      <mass
        value="0.00104853124248246" />
      <inertia
        ixx="2.66941839063471E-07"
        ixy="1.02844037705421E-08"
        ixz="-4.91429452570459E-10"
        iyy="8.7152146989004E-08"
        iyz="-2.15685255707603E-08"
        izz="3.47722071568518E-07" />
    </inertial>
    <visual>
      <origin
        xyz="0 0 0"
        rpy="0 0 0" />
      <geometry>
        <mesh
          filename="package://robokit_mv_description/meshes/num_05.STL" />
      </geometry>
      <material
        name="">
        <color
          rgba="0.792156862745098 0.819607843137255 0.933333333333333 1" />
      </material>
    </visual>
    <collision>
      <origin
        xyz="0 0 0"
        rpy="0 0 0" />
      <geometry>
        <mesh
          filename="package://robokit_mv_description/meshes/num_05.STL" />
      </geometry>
    </collision>
  </link>
  <joint
    name="num_05_fix"
    type="fixed">
    <origin
      xyz="0.0018076923076921 -0.025 0.00506924133700464"
      rpy="1.5707963267949 0 0" />
    <parent
      link="trunk_1" />
    <child
      link="num_05" />
    <axis
      xyz="0 0 0" />
  </joint> --><!-- <link
    name="number_01">
    <inertial>
      <origin
        xyz="0.0207776517703959 0.027021682074266 0.000499999999999987"
        rpy="0 0 0" />
      <mass
        value="0.000555953010570228" />
      <inertia
        ixx="1.08098560714746E-07"
        ixy="9.07910123965812E-09"
        ixz="5.02557000201468E-25"
        iyy="9.43341930505194E-09"
        iyz="3.47332362410589E-24"
        izz="1.17439320018073E-07" />
    </inertial>
    <visual>
      <origin
        xyz="0 0 0"
        rpy="0 0 0" />
      <geometry>
        <mesh
          filename="package://robokit_mv_description/meshes/number_01.STL" />
      </geometry>
      <material
        name="">
        <color
          rgba="0.792156862745098 0.819607843137255 0.933333333333333 1" />
      </material>
    </visual>
    <collision>
      <origin
        xyz="0 0 0"
        rpy="0 0 0" />
      <geometry>
        <mesh
          filename="package://robokit_mv_description/meshes/number_01.STL" />
      </geometry>
    </collision>
  </link>
  <joint
    name="number_01_fix"
    type="fixed">
    <origin
      xyz="0.005641 0.094 0.0038166"
      rpy="1.5708 0 3.1416" />
    <parent
      link="trunk_1" />
    <child
      link="number_01" />
    <axis
      xyz="0 0 0" />
  </joint> --><!-- <link
    name="number_02">
    <inertial>
      <origin
        xyz="0.0190153902695852 0.0228463602851654 0.00049999476187812"
        rpy="0 0 0" />
      <mass
        value="0.000968513691392372" />
      <inertia
        ixx="2.81539895357361E-07"
        ixy="-1.88228730307683E-08"
        ixz="-5.3553055356393E-14"
        iyy="7.61529446529568E-08"
        iyz="-2.40831981355288E-14"
        izz="3.57531410578623E-07" />
    </inertial>
    <visual>
      <origin
        xyz="0 0 0"
        rpy="0 0 0" />
      <geometry>
        <mesh
          filename="package://robokit_mv_description/meshes/number_02.STL" />
      </geometry>
      <material
        name="">
        <color
          rgba="0.792156862745098 0.819607843137255 0.933333333333333 1" />
      </material>
    </visual>
    <collision>
      <origin
        xyz="0 0 0"
        rpy="0 0 0" />
      <geometry>
        <mesh
          filename="package://robokit_mv_description/meshes/number_02.STL" />
      </geometry>
    </collision>
  </link>
  <joint
    name="number_02_fix"
    type="fixed">
    <origin
      xyz="0.00461538461538441 0.094 0.00381656939476953"
      rpy="1.5707963267949 0 -3.14159265358979" />
    <parent
      link="trunk_1" />
    <child
      link="number_02" />
    <axis
      xyz="0 0 0" />
  </joint>
  <link
    name="number_03">
    <inertial>
      <origin
        xyz="0.0212885651754026 0.024074824758715 0.000499995395719502"
        rpy="0 0 0" />
      <mass
        value="0.00089889558156857" />
      <inertia
        ixx="2.3422406525786E-07"
        ixy="2.88673500463855E-09"
        ixz="1.81887806696507E-15"
        iyy="6.72055852829715E-08"
        iyz="1.67693393159953E-14"
        izz="3.01279827373794E-07" />
    </inertial>
    <visual>
      <origin
        xyz="0 0 0"
        rpy="0 0 0" />
      <geometry>
        <mesh
          filename="package://robokit_mv_description/meshes/number_03.STL" />
      </geometry>
      <material
        name="">
        <color
          rgba="0.792156862745098 0.819607843137255 0.933333333333333 1" />
      </material>
    </visual>
    <collision>
      <origin
        xyz="0 0 0"
        rpy="0 0 0" />
      <geometry>
        <mesh
          filename="package://robokit_mv_description/meshes/number_03.STL" />
      </geometry>
    </collision>
  </link>
  <joint
    name="number_03_fix"
    type="fixed">
    <origin
      xyz="0.0058714 0.094 0.0045624"
      rpy="1.5708 0 -3.1416" />
    <parent
      link="trunk_1" />
    <child
      link="number_03" />
    <axis
      xyz="0 0 0" />
  </joint>
  <link
    name="number_04">
    <inertial>
      <origin
        xyz="0.0198178458364149 0.023393768005545 0.0005"
        rpy="0 0 0" />
      <mass
        value="0.000962652965096719" />
      <inertia
        ixx="1.32494740090776E-07"
        ixy="-7.81231574158938E-09"
        ixz="2.49511249737588E-25"
        iyy="6.55788803844149E-08"
        iyz="-2.88111337437569E-25"
        izz="1.97913178314342E-07" />
    </inertial>
    <visual>
      <origin
        xyz="0 0 0"
        rpy="0 0 0" />
      <geometry>
        <mesh
          filename="package://robokit_mv_description/meshes/number_04.STL" />
      </geometry>
      <material
        name="">
        <color
          rgba="0.792156862745098 0.819607843137255 0.933333333333333 1" />
      </material>
    </visual>
    <collision>
      <origin
        xyz="0 0 0"
        rpy="0 0 0" />
      <geometry>
        <mesh
          filename="package://robokit_mv_description/meshes/number_04.STL" />
      </geometry>
    </collision>
  </link>
  <joint
    name="number_04_fix"
    type="fixed">
    <origin
      xyz="0.00525641025641004 0.0940000000000001 0.00381656939476954"
      rpy="1.5707963267949 0 -3.14159265358979" />
    <parent
      link="trunk_1" />
    <child
      link="number_04" />
    <axis
      xyz="0 0 0" />
  </joint>
  <link
    name="number_05">
    <inertial>
      <origin
        xyz="0.0192374384814289 0.0249167276606165 0.000500001685692766"
        rpy="0 0 0" />
      <mass
        value="0.0010065931758337" />
      <inertia
        ixx="2.44497833408288E-07"
        ixy="1.08404205421667E-08"
        ixz="4.2571335790745E-15"
        iyy="8.19070107099453E-08"
        iyz="-2.04232961026056E-14"
        izz="3.26237084247543E-07" />
    </inertial>
    <visual>
      <origin
        xyz="0 0 0"
        rpy="0 0 0" />
      <geometry>
        <mesh
          filename="package://robokit_mv_description/meshes/number_05.STL" />
      </geometry>
      <material
        name="">
        <color
          rgba="0.792156862745098 0.819607843137255 0.933333333333333 1" />
      </material>
    </visual>
    <collision>
      <origin
        xyz="0 0 0"
        rpy="0 0 0" />
      <geometry>
        <mesh
          filename="package://robokit_mv_description/meshes/number_05.STL" />
      </geometry>
    </collision>
  </link>
  <joint
    name="number_05_fix"
    type="fixed">
    <origin
      xyz="0.0046923 0.094 0.0045624"
      rpy="1.5708 0 -3.1416" />
    <parent
      link="trunk_1" />
    <child
      link="number_05" />
    <axis
      xyz="0 0 0" />
  </joint> --></robot>
